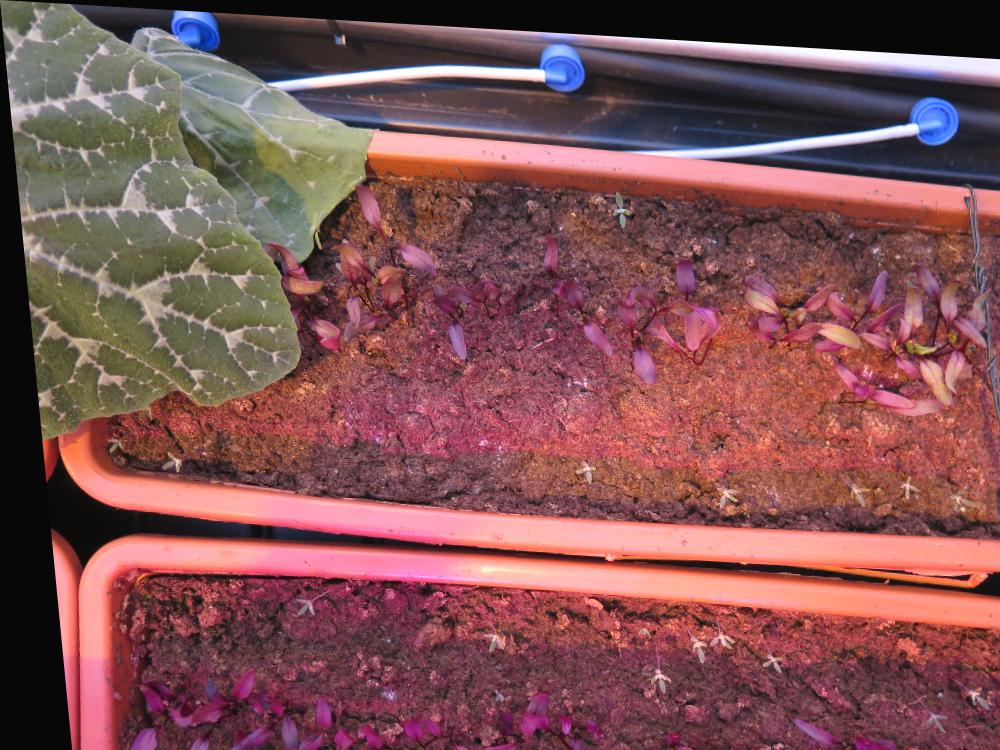weed: (605, 181, 627, 221), (952, 670, 977, 701), (633, 657, 659, 686), (906, 697, 936, 722), (563, 450, 589, 478), (838, 469, 863, 496), (887, 461, 911, 489), (146, 447, 172, 471), (939, 480, 968, 501), (675, 624, 694, 656), (705, 475, 729, 500), (745, 642, 771, 665), (469, 625, 493, 649), (694, 621, 722, 640), (280, 592, 303, 614)
